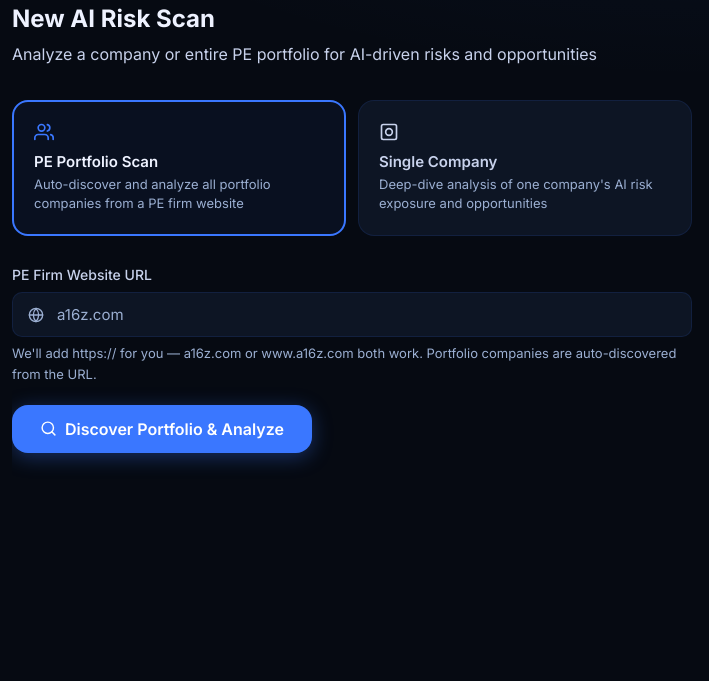
Test: NewScanPage › portfolio confirm and polling flow › shows an error and returns to confirm if the provided URL fetch fails
The image size is (709, 681).
In the field labelled "PE Firm Website URL": (352, 315) 12,292 -> 692,337, type "https://pe-firm.com"
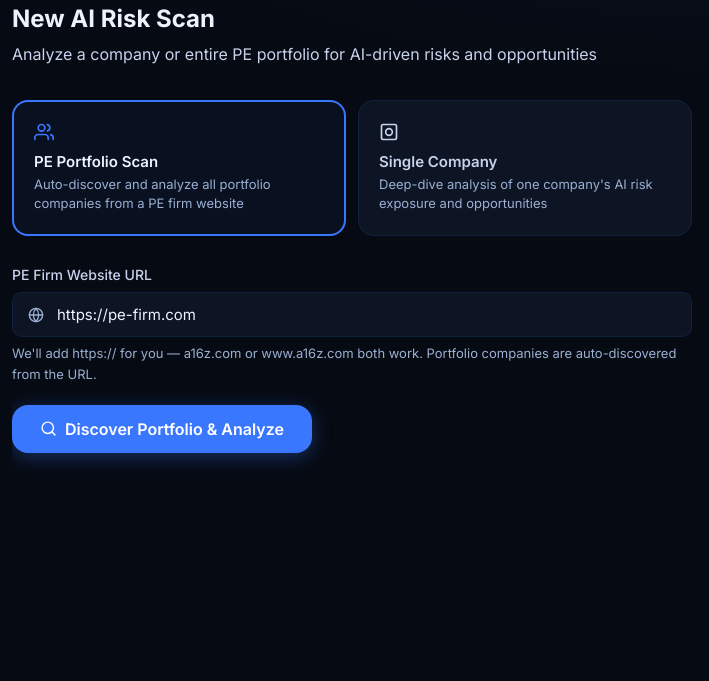
Click the button "Discover Portfolio & Analyze": click(162, 429) 12,405 -> 312,453
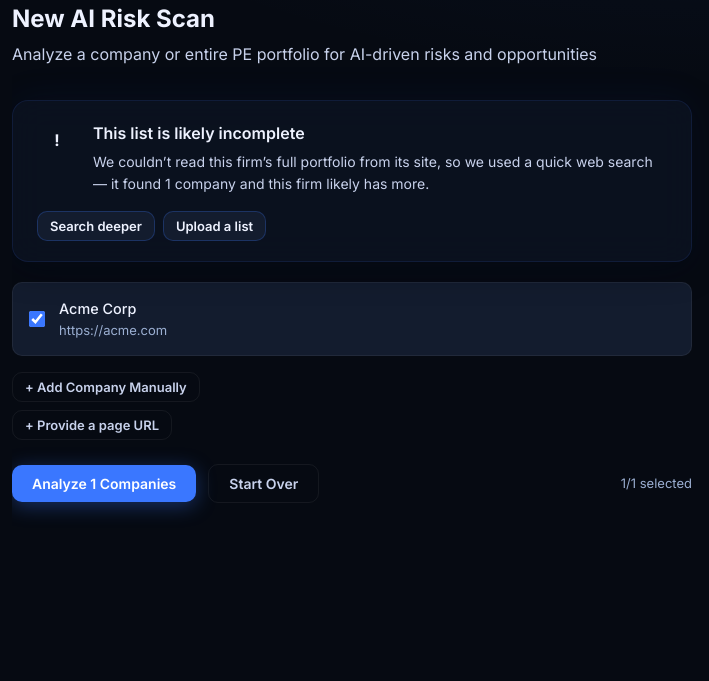
Now the text "This list is likely incomplete" is shown, box 93,123 -> 305,143
Click the button "+ Provide a page URL": click(92, 425) 12,410 -> 172,440
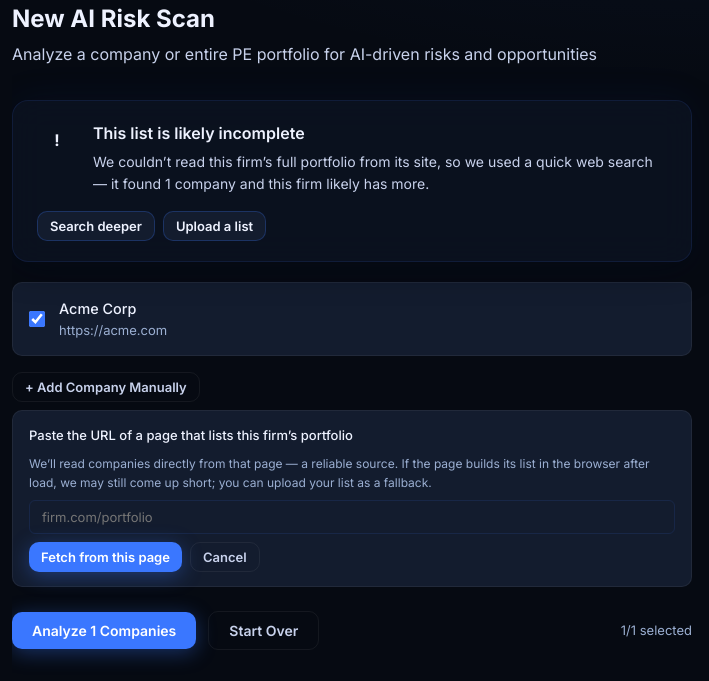
In the field named "Portfolio page URL": (352, 517) 29,500 -> 675,534, type "pe-firm.com/portfolio"
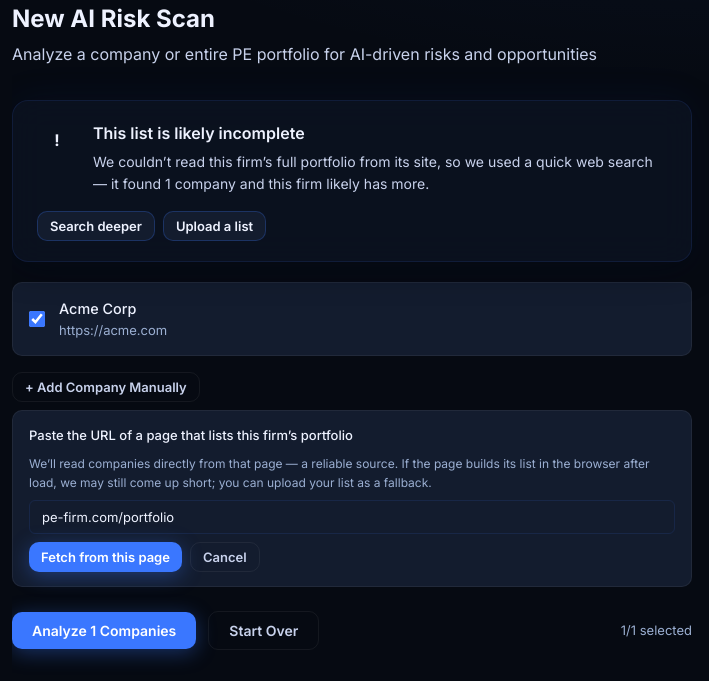
Click the button "Fetch from this page": click(105, 557) 29,542 -> 182,572
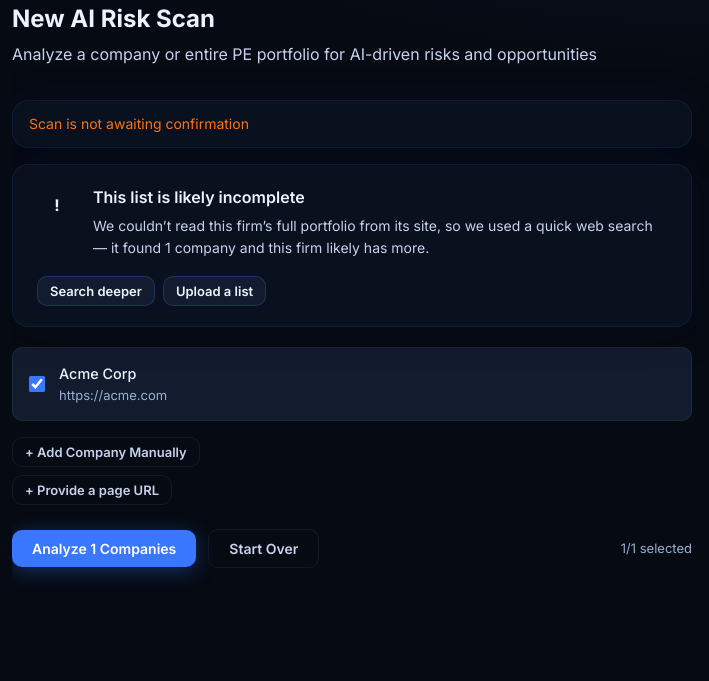
Now the button "Analyze 1 Companies" is shown, box 12,530 -> 196,567
Now the text "Scan is not awaiting confirmation" is shown, box 12,100 -> 692,148
